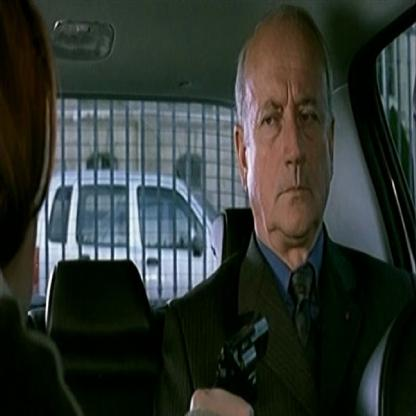Gun: (204, 311, 274, 402)
